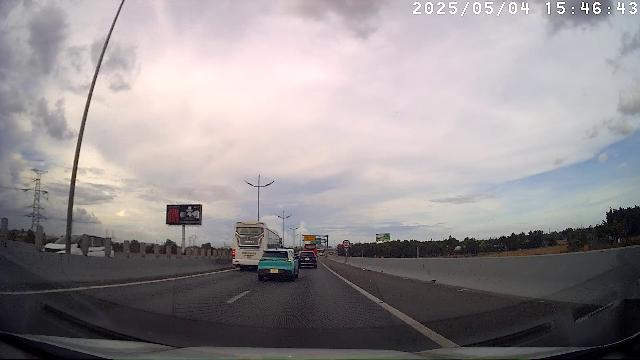127-toc-do-toi-da-60: (342, 239, 350, 248)
